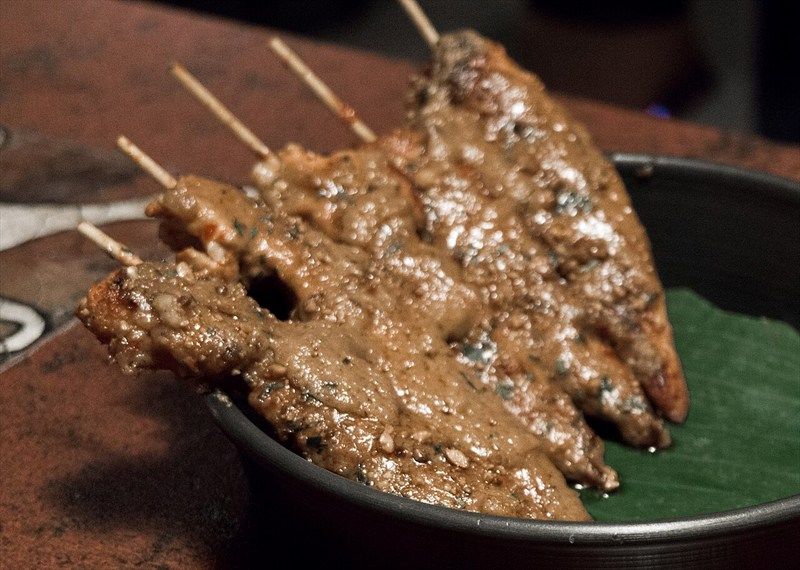Sate Ayam: (97, 80, 643, 500)
